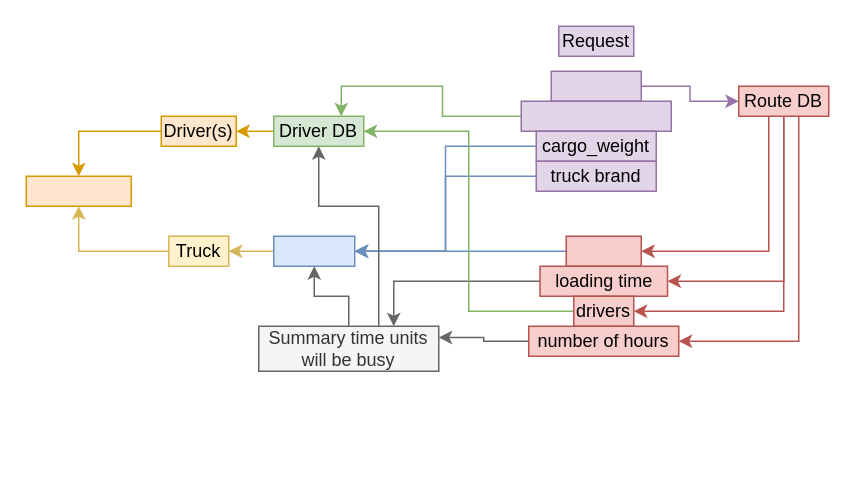
Image size: 855x500. Some labels were removed from this diagram. The centre of each missing label's shape, as x and y in pixels:
"departure date" goes at pixel 595 115.
"destination" goes at pixel 595 85.
"distance" goes at pixel 603 250.
"Response" goes at pixel 78 190.
"Truck DB" goes at pixel 313 250.
